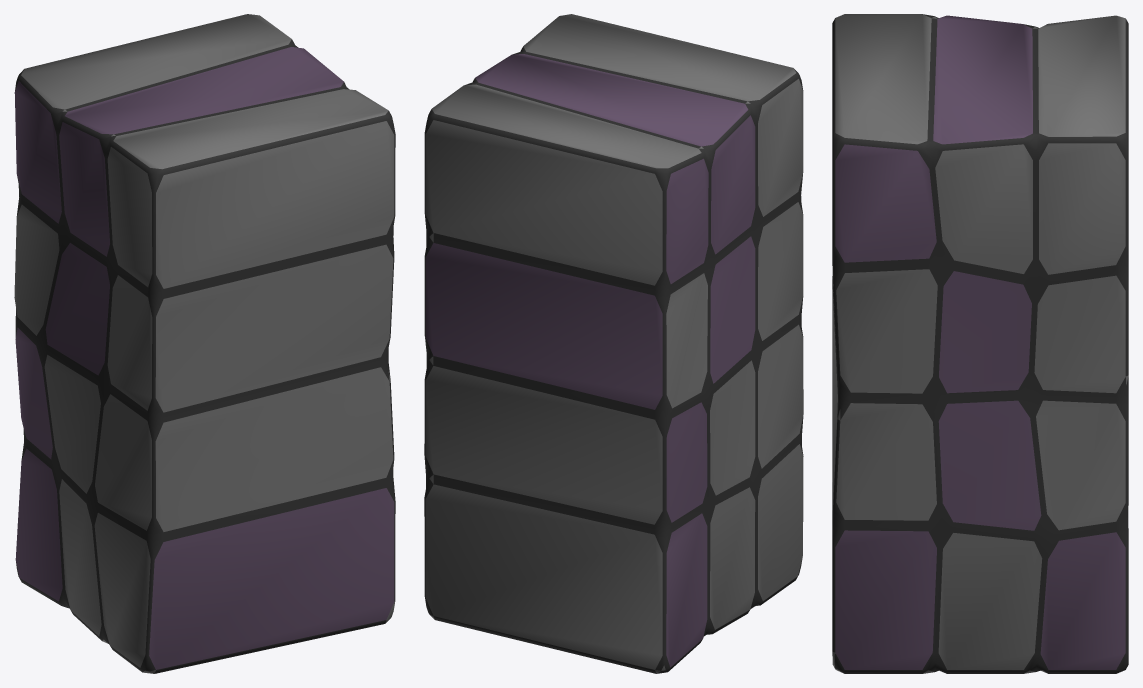
The model's file is BoneWall1.glb.
3 renders of one model, left to right at view 1: azimuth 30°, elevation 25°; view 2: azimuth 150°, elevation 25°; view 3: azimuth 270°, elevation 25°, orthographic. The views are drawn at different scales.
Parts seen in each view (by area): view 1: Cube; view 2: Cube; view 3: Cube.
Boxes of the visible parts, bbox=[...] form: Cube: bbox=[14, 14, 395, 673]; Cube: bbox=[424, 14, 803, 673]; Cube: bbox=[832, 14, 1128, 673].
Bounding box in the file's own units: 2.12 × 4 × 2.
